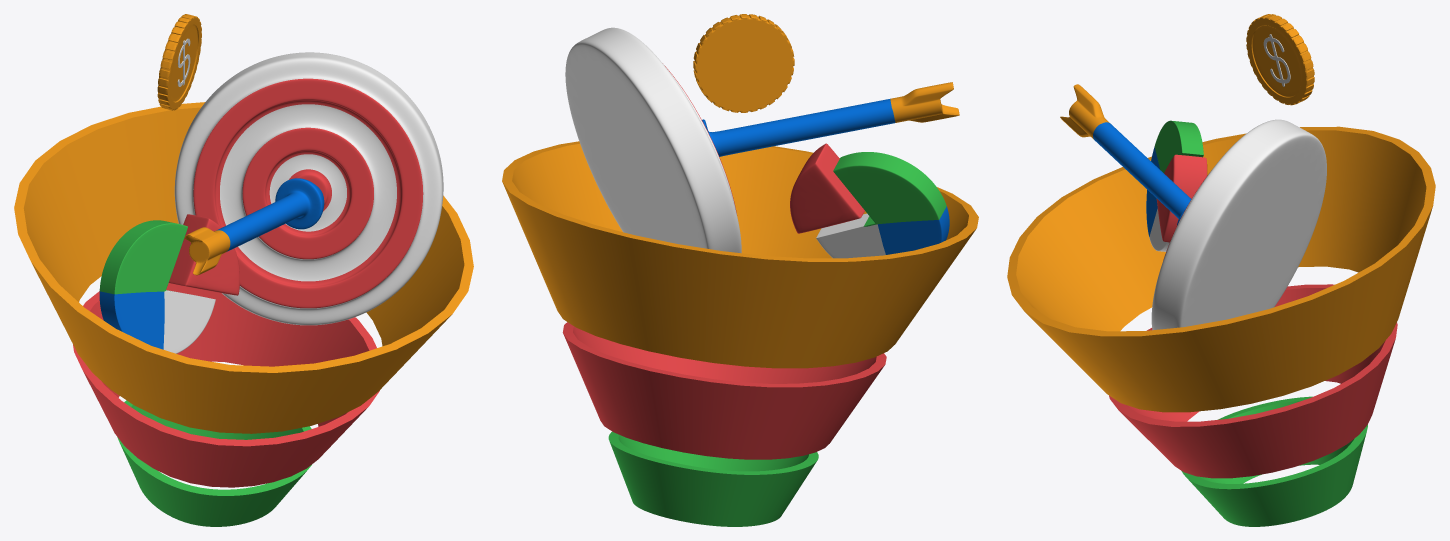
The model's file is sales-quota-3d-animated-icon-815673500711.glb.
3 views of the same model, side by side, from view 1: azimuth 30°, elevation 25°; view 2: azimuth 150°, elevation 25°; view 3: azimuth 270°, elevation 25° (orthographic). The views are drawn at different scales.
Visible parts, largest first — view 1: Cylinder, Cube, Cube.001, Circle, Cube.002, Cylinder.002, Cylinder.007, Circle.001; view 2: Cube, Cube.001, Cylinder, Cube.002, Circle, Cylinder.007, Cylinder.002, Circle.001; view 3: Cube, Cylinder, Cube.001, Cube.002, Cylinder.007, Cylinder.002, Circle, Circle.001.
Part boxes in pixels (x1,y1,x2,y2): Cylinder: [174, 52, 443, 325]; Cube: [14, 102, 473, 433]; Cube.001: [73, 283, 379, 487]; Circle: [99, 220, 215, 353]; Cube.002: [117, 400, 311, 526]; Cylinder.002: [184, 178, 324, 275]; Cylinder.007: [157, 14, 201, 110]; Circle.001: [168, 214, 239, 295]; Cube: [502, 141, 978, 368]; Cube.001: [562, 322, 886, 459]; Cylinder: [565, 27, 741, 253]; Cube.002: [608, 431, 818, 526]; Circle: [816, 152, 949, 258]; Cylinder.007: [693, 14, 794, 112]; Cylinder.002: [702, 82, 959, 156]; Circle.001: [790, 143, 864, 233]; Cube: [1007, 126, 1435, 412]; Cylinder: [1151, 119, 1326, 330]; Cube.001: [1109, 284, 1397, 478]; Cube.002: [1181, 396, 1367, 526]; Cylinder.007: [1246, 14, 1314, 105]; Cylinder.002: [1060, 84, 1191, 225]; Circle: [1146, 120, 1203, 251]; Circle.001: [1156, 154, 1207, 242].
Size of the model in its own units: 3.41 by 4.08 by 3.33.
